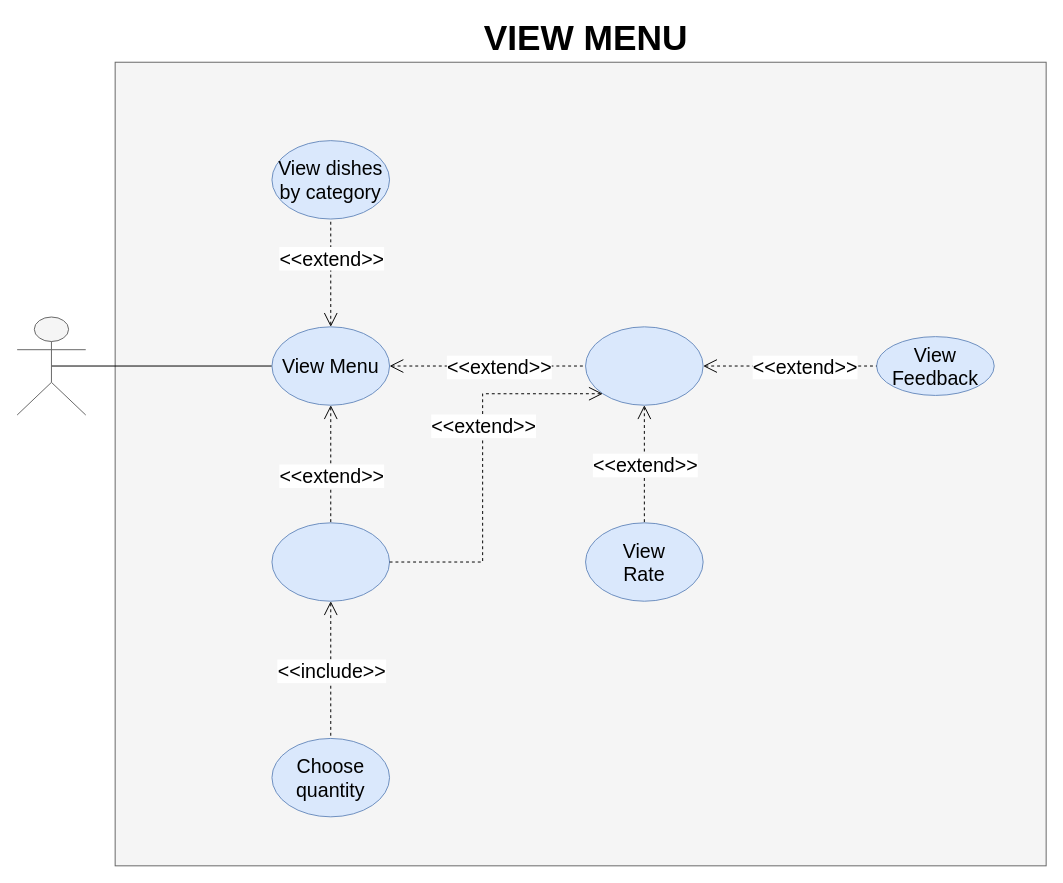
Image size: 1063x883. Some labels were removed from this diagram. The centre of each missing label's shape, as x and y in pixels:
Add dishes to cart: point (330, 561)
Customer: point (51, 365)
View details dishes: point (644, 365)
